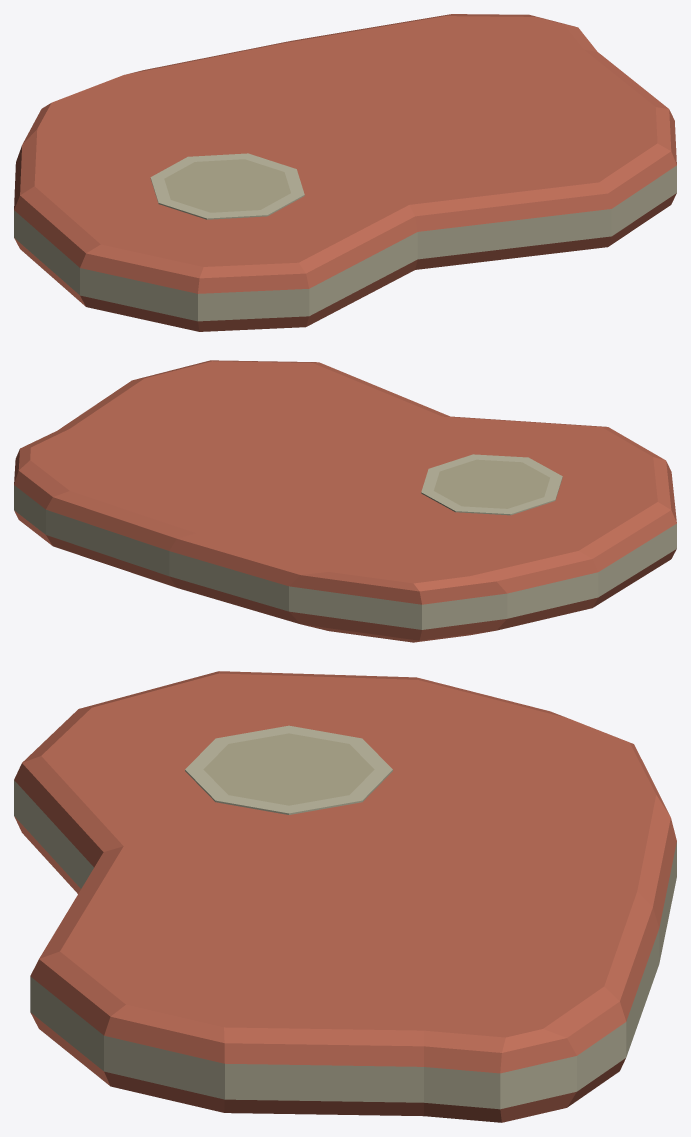
The model's file is Meat-Lowpoly.fbx.
3 views of the same model, one above another, from view 1: azimuth 30°, elevation 25°; view 2: azimuth 150°, elevation 25°; view 3: azimuth 270°, elevation 25° (orthographic). The views are drawn at different scales.
Visible parts, largest first — view 1: Meat; view 2: Meat; view 3: Meat.
Part boxes in pixels (<box>): Meat: <box>14,14,676,331</box>; Meat: <box>14,360,676,642</box>; Meat: <box>14,671,676,1122</box>.
Bounding box in the file's own units: 123 × 12.89 × 88.79.
